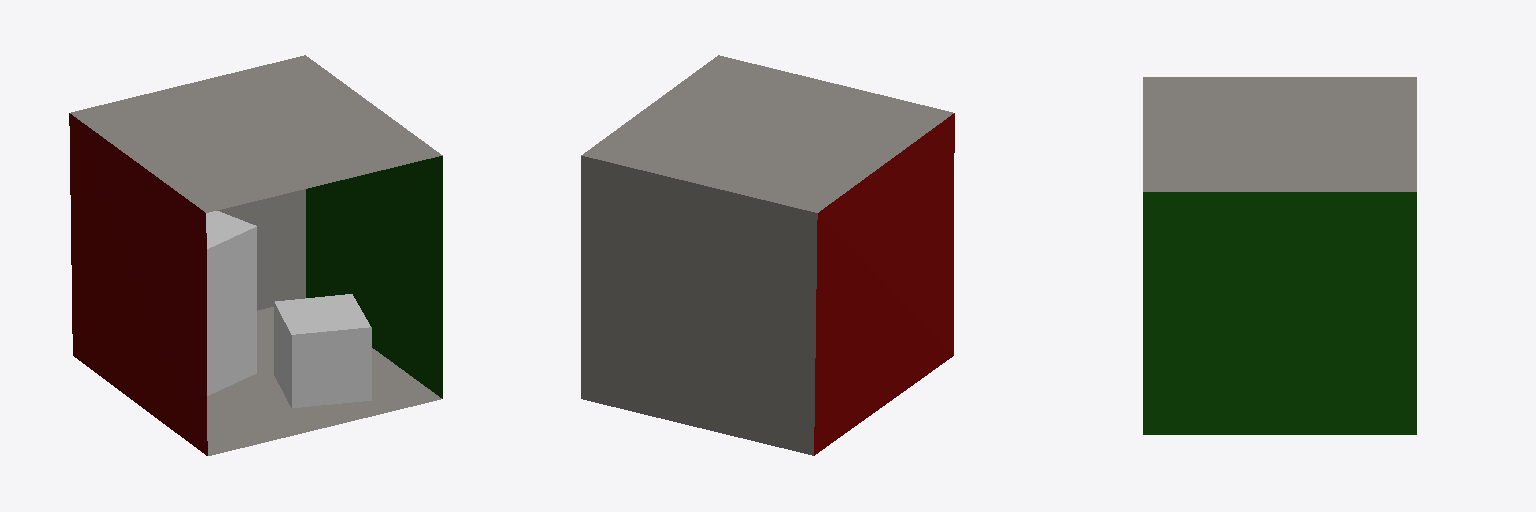
File: orig_nolight.obj
3 renders of one model, left to right at view 1: azimuth 30°, elevation 25°; view 2: azimuth 150°, elevation 25°; view 3: azimuth 270°, elevation 25°, orthographic.
Parts seen in each view (by area): view 1: leftWall, ceiling, rightWall, floor, shortBox, tallBox, backWall; view 2: backWall, leftWall, ceiling; view 3: rightWall, ceiling.
Boxes of the visible parts, x1,y1,x2,y2 form: leftWall: [69, 113, 207, 455]; ceiling: [70, 55, 442, 212]; rightWall: [306, 156, 442, 398]; floor: [207, 307, 441, 455]; shortBox: [274, 294, 371, 407]; tallBox: [206, 211, 256, 395]; backWall: [217, 189, 305, 310]; backWall: [581, 156, 817, 455]; leftWall: [814, 113, 954, 455]; ceiling: [581, 55, 953, 212]; rightWall: [1143, 192, 1416, 434]; ceiling: [1143, 77, 1416, 191].
Bounding box in the file's own units: 2.02 × 1.99 × 2.03.